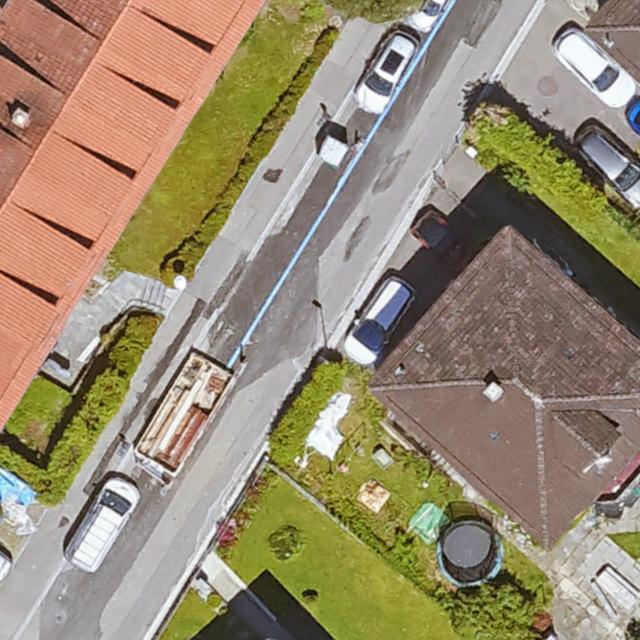tree: (451, 578, 535, 640)
